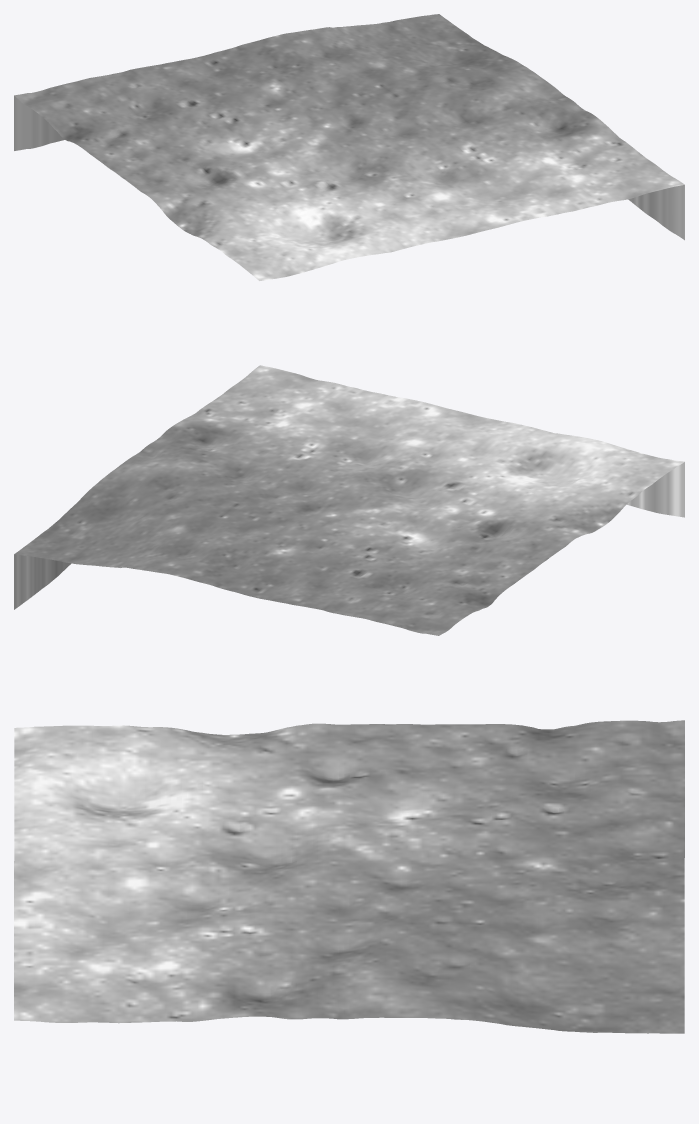
The picture shows the model from 3 angles, top to bottom: view 1: azimuth 30°, elevation 25°; view 2: azimuth 150°, elevation 25°; view 3: azimuth 270°, elevation 25°; orthographic projection. The views are drawn at different scales.
Size of the model in its own units: 638 by 112 by 639.
Materials: 1 (1 with a texture image).
